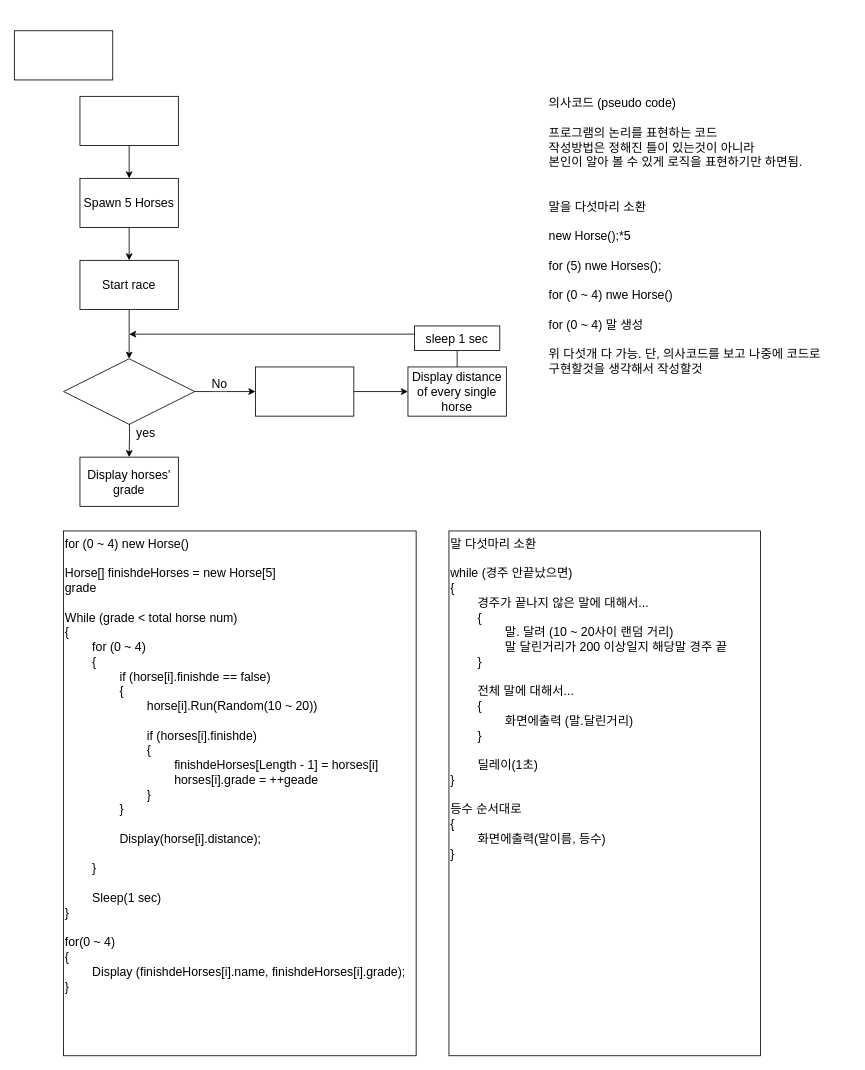
Image size: 865x1070. Some labels were removed from this diagram. The shapes that lost their labels are listed below. From the top down, each one's centre as x and y in pixels, then its label:
At (x=63, y=55): "Logic".
At (x=128, y=121): "Start".
At (x=129, y=391): "is race finished".
At (x=304, y=391): "Make horses not finishde run".
